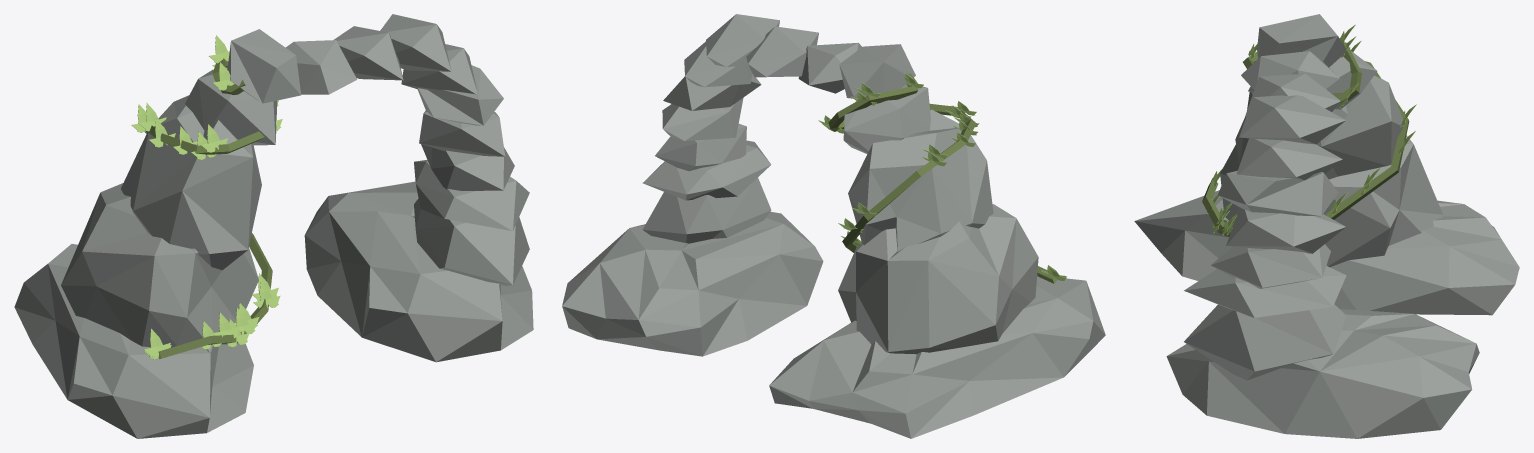
File: Rock_1.fbx
3 views of the same model, side by side, from view 1: azimuth 30°, elevation 25°; view 2: azimuth 150°, elevation 25°; view 3: azimuth 270°, elevation 25° (orthographic). The views are drawn at different scales.
Visible parts, largest first — view 1: Rock_1; view 2: Rock_1; view 3: Rock_1.
Boxes of the visible parts, left/top/right/bottom form: Rock_1: left=14, top=14, right=533, bottom=438; Rock_1: left=562, top=14, right=1105, bottom=438; Rock_1: left=1134, top=14, right=1519, bottom=438.
Size of the model in its own units: 592 by 358 by 432.
1 material, 1 textured.
